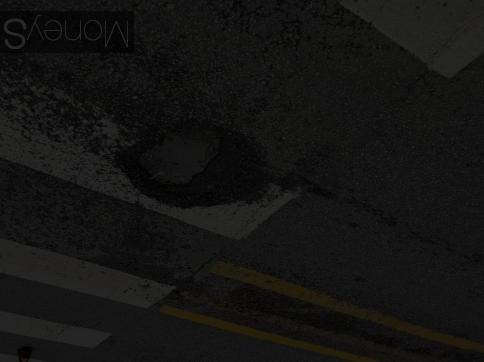pothole: (96, 114, 292, 225)
